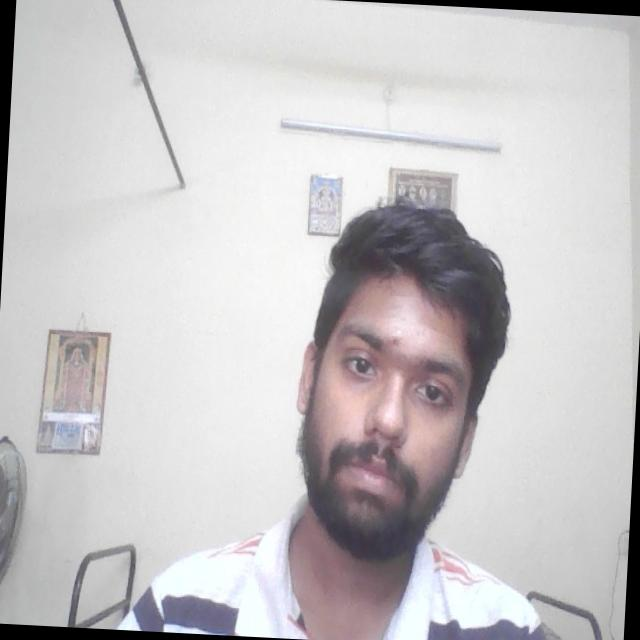Focused: (293, 285, 486, 540)
